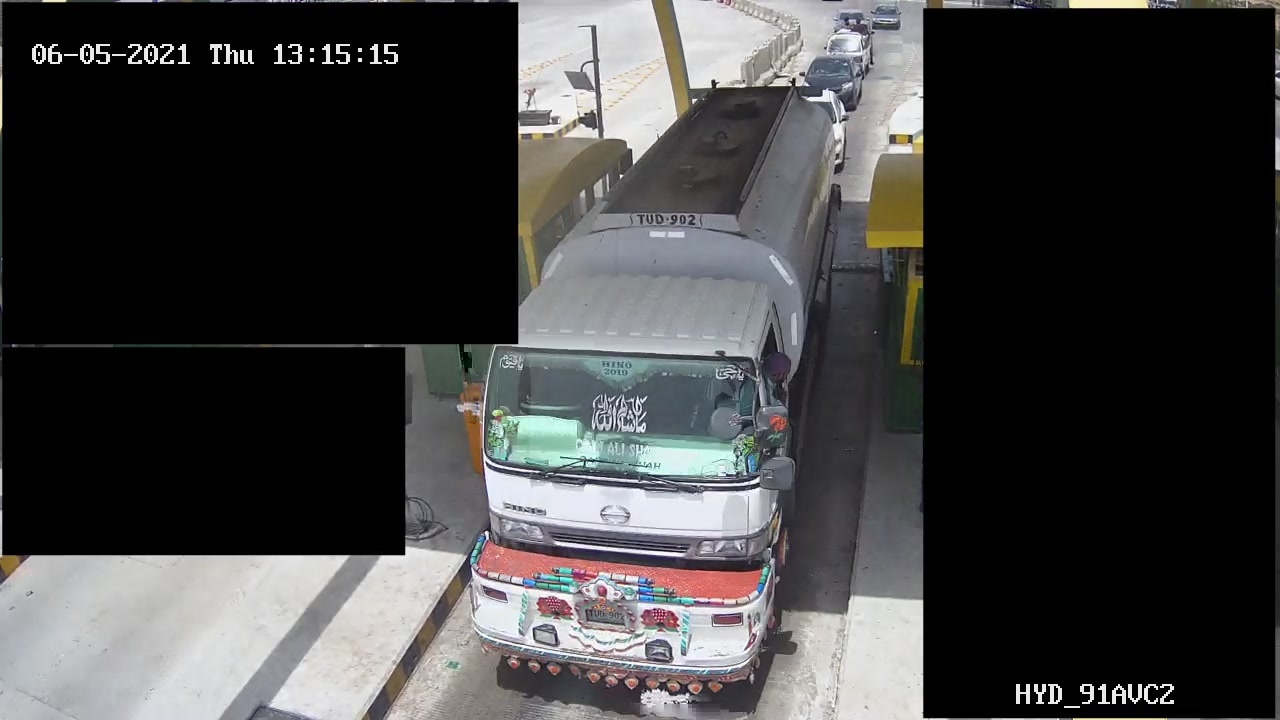F6: (481, 72, 840, 703)
